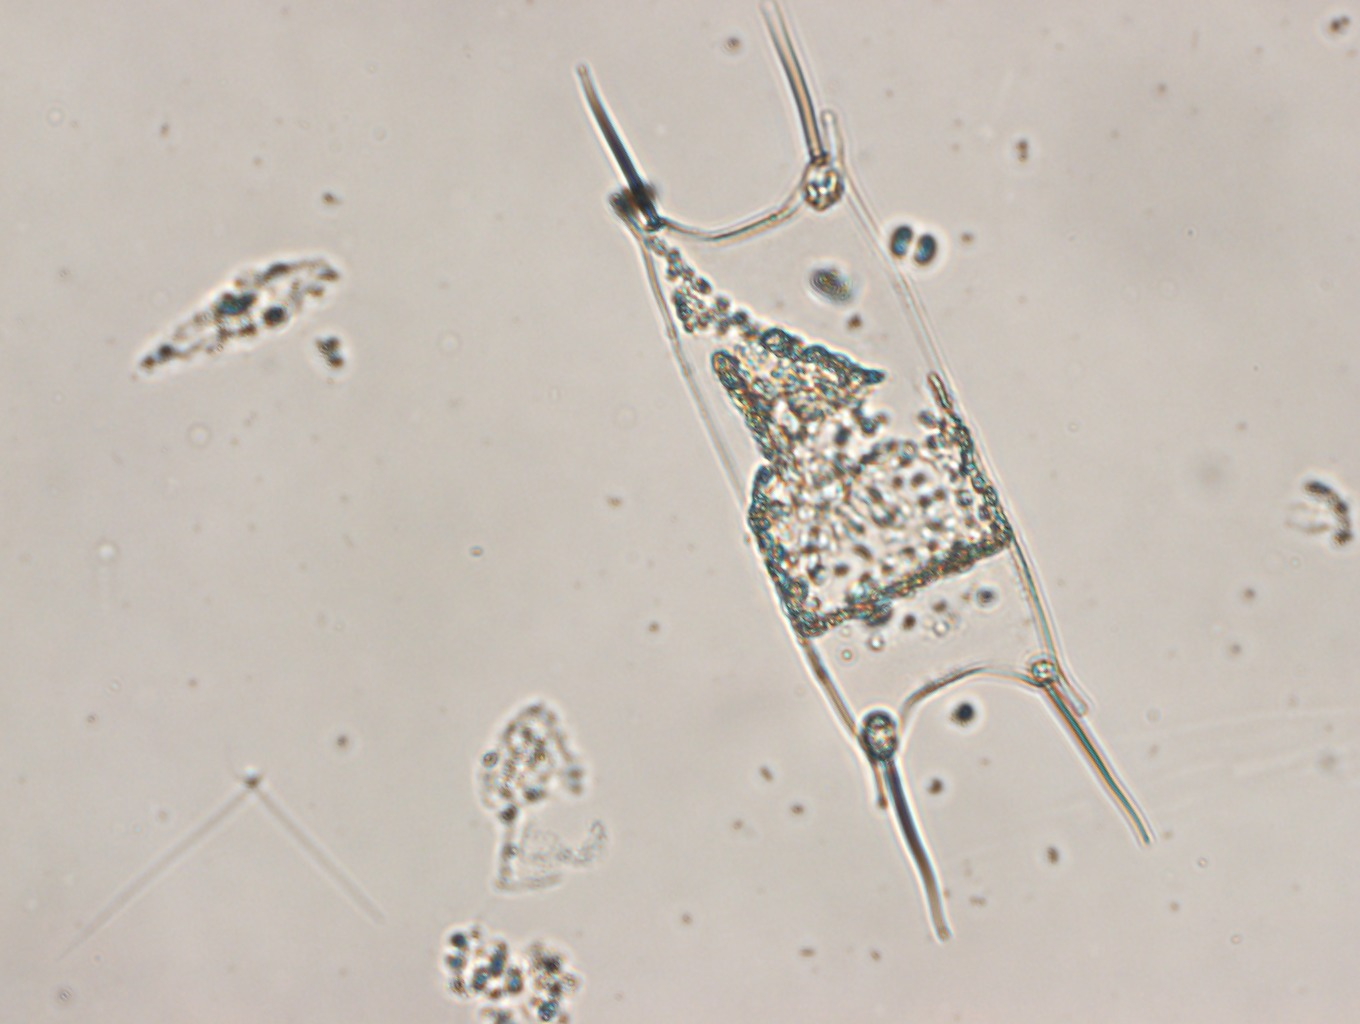biddulphia: (576, 1, 1151, 947)
